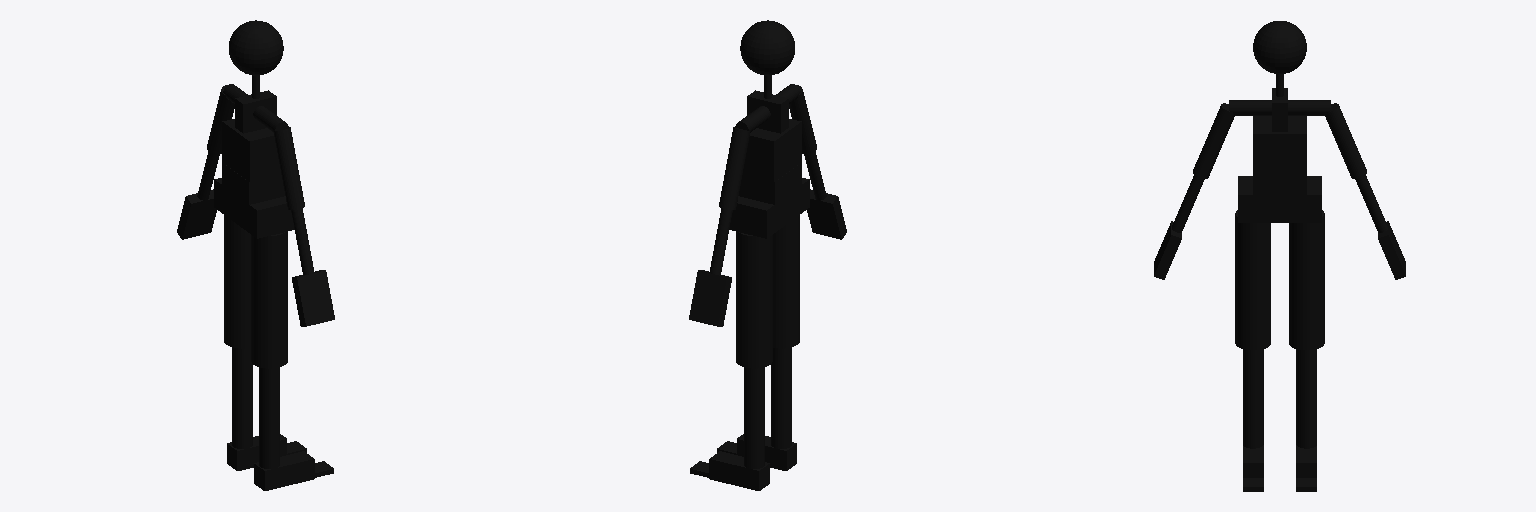
--- What the picture shows (computed from the rendered views, not written in the file) ---
Views: 3 orthographic renders of the robot side by side, from view 1: azimuth 30°, elevation 25°; view 2: azimuth 150°, elevation 25°; view 3: azimuth 270°, elevation 25°.
Robot: XSensStyleModel_template — 51 links, 50 joints (48 revolute, 2 fixed); root link Pelvis; default pose: all joints at 0.
Visible links, largest first — view 1: RightUpperLeg, LeftUpperLeg, Pelvis, Head, RightLowerLeg, LeftLowerLeg, RightHand, RightFoot, T12, RightUpperArm, L5, LeftHand (+6 smaller); view 2: LeftUpperLeg, RightUpperLeg, Pelvis, Head, LeftLowerLeg, RightLowerLeg, LeftHand, LeftFoot, T12, LeftUpperArm, L5, RightHand (+6 smaller); view 3: RightUpperLeg, LeftUpperLeg, Pelvis, Head, RightLowerLeg, LeftLowerLeg, T12, RightUpperArm, LeftUpperArm, L5, L3, RightHand (+8 smaller).
Link boxes in pixels (x1,y1,x2,y2): RightUpperLeg: [251, 232, 287, 368]; LeftUpperLeg: [224, 215, 250, 348]; Pelvis: [214, 178, 294, 238]; Head: [229, 20, 283, 75]; RightLowerLeg: [259, 367, 279, 468]; LeftLowerLeg: [232, 347, 252, 448]; RightHand: [292, 270, 334, 326]; RightFoot: [254, 451, 314, 490]; T12: [222, 119, 277, 161]; RightUpperArm: [273, 127, 304, 209]; L5: [222, 163, 284, 204]; LeftHand: [177, 189, 216, 239]; LeftUpperLeg: [736, 232, 772, 368]; RightUpperLeg: [773, 215, 799, 348]; Pelvis: [729, 178, 809, 238]; Head: [740, 20, 794, 75]; LeftLowerLeg: [744, 367, 764, 468]; RightLowerLeg: [771, 347, 791, 448]; LeftHand: [689, 270, 731, 326]; LeftFoot: [709, 451, 769, 490]; T12: [746, 119, 801, 161]; LeftUpperArm: [719, 127, 750, 209]; L5: [739, 163, 801, 204]; RightHand: [807, 189, 846, 239]; RightUpperLeg: [1235, 210, 1270, 350]; LeftUpperLeg: [1289, 210, 1324, 350]; Pelvis: [1238, 176, 1321, 222]; Head: [1253, 21, 1306, 73]; RightLowerLeg: [1243, 349, 1263, 448]; LeftLowerLeg: [1296, 349, 1316, 448]; T12: [1253, 116, 1306, 153]; RightUpperArm: [1193, 103, 1234, 178]; LeftUpperArm: [1325, 103, 1366, 178]; L5: [1253, 173, 1306, 194]; L3: [1253, 154, 1306, 172]; RightHand: [1154, 221, 1181, 279].
Bounding box of the posed robot: 0.346 × 0.9321 × 1.8 m (x, y, z).
Geometry: primitives only (box / cylinder / sphere), no mesh files.

URDF robot description (XSensStyleModel_template):
<!--URDF MODEL 48 DoFs-->

<robot name="XSensStyleModel_template">

<material name="color">
    <color rgba="0.1 0.1 0.1 1"/>
</material>

<!--To open this model with Gazebo replace the null masses, inertias and dimensions of the 'fake links f1 and f2'-->
    <!--LINKS-->
	<!--Link base (1)-->
	<link name="Pelvis">
        <inertial>
            <mass value="5.696"/>
			<!--COM origin wrt pHipOrigin-->
            <origin xyz="0           0    0.059167" rpy="0 0 0" />
            <inertia ixx="0.050919" iyy="0.019195" izz="0.058056" ixy="0" ixz="0" iyz="0"/>
        </inertial>

        <visual>
			<!--box origin wrt pHipOrigin-->
            <origin xyz="0           0    0.059167" rpy="0 0 0" />
            <geometry>
                <box size="0.16655     0.30753      0.1127"/>
            </geometry>
            <material name="color"/>
        </visual>

        <collision>
			<!--box origin wrt pHipOrigin-->
            <origin xyz="0           0    0.059167" rpy="0 0 0" />
            <geometry>
                <box size="0.16655     0.30753      0.1127"/>
            </geometry>
        </collision>

    </link>
    <!--Chain from (2) to (7)-->
	<link name="L5_f1">
        <inertial>
            <mass value="0"/>
            <origin xyz="0 0 0" rpy="0 0 0" />
            <inertia ixx="0" iyy="0" izz="0" ixy="0" ixz="0" iyz="0"/>
        </inertial>
    </link>
	<link name="L5">
        <inertial>
            <mass value="7.2624"/>
			<!--COM origin wrt jL5S1-->
            <origin xyz="0           0    0.044881" rpy="0 0 0" />
            <inertia ixx="0.02831" iyy="0.021663" izz="0.040221" ixy="0" ixz="0" iyz="0"/>
        </inertial>

        <visual>
			<!--box origin origin wrt jL5S1-->
            <origin xyz="0           0    0.044881" rpy="0 0 0" />
            <geometry>
                <box size="0.16655     0.19678    0.089762"/>
            </geometry>
            <material name="color"/>
        </visual>

        <collision>
			<!--box origin origin wrt jL5S1-->
            <origin xyz="0           0    0.044881" rpy="0 0 0" />
            <geometry>
                <box size="0.16655     0.19678    0.089762"/>
            </geometry>
        </collision>
    </link>
	<link name="L3_f1">
        <inertial>
            <mass value="0"/>
            <origin xyz="0 0 0" rpy="0 0 0" />
            <inertia ixx="0" iyy="0" izz="0" ixy="0" ixz="0" iyz="0"/>
        </inertial>
    </link>
	<link name="L3">
        <inertial>
            <mass value="7.2624"/>
			<!--COM origin wrt jL4L3-->
            <origin xyz="0           0    0.040536" rpy="0 0 0" />
            <inertia ixx="0.027412" iyy="0.020764" izz="0.040221" ixy="0" ixz="0" iyz="0"/>
        </inertial>

        <visual>
			<!--box origin origin wrt jL4L3-->
            <origin xyz="0           0    0.040536" rpy="0 0 0" />
            <geometry>
                <box size="0.16655     0.19678    0.081071"/>
            </geometry>
            <material name="color"/>
        </visual>

        <collision>
			<!--box origin origin wrt jL4L3-->
            <origin xyz="0           0    0.040536" rpy="0 0 0" />
            <geometry>
                <box size="0.16655     0.19678    0.081071"/>
            </geometry>
        </collision>
    </link>
	<link name="T12_f1">
        <inertial>
            <mass value="0"/>
            <origin xyz="0 0 0" rpy="0 0 0" />
            <inertia ixx="0" iyy="0" izz="0" ixy="0" ixz="0" iyz="0"/>
        </inertial>
    </link>
	<link name="T12">
        <inertial>
            <mass value="7.2624"/>
			<!--COM origin wrt jL1T12-->
            <origin xyz="0           0    0.040536" rpy="0 0 0" />
            <inertia ixx="0.027412" iyy="0.020764" izz="0.040221" ixy="0" ixz="0" iyz="0"/>
        </inertial>

        <visual>
			<!--box origin origin wrt jL1T12-->
            <origin xyz="0           0    0.040536" rpy="0 0 0" />
            <geometry>
                <box size="0.16655     0.19678    0.081071"/>
            </geometry>
            <material name="color"/>
        </visual>

        <collision>
			<!--box origin origin wrt jL1T12-->
            <origin xyz="0           0    0.040536" rpy="0 0 0" />
            <geometry>
                <box size="0.16655     0.19678    0.081071"/>
            </geometry>
        </collision>
    </link>
	<link name="T8_f1">
        <inertial>
            <mass value="0"/>
            <origin xyz="0 0 0" rpy="0 0 0" />
            <inertia ixx="0" iyy="0" izz="0" ixy="0" ixz="0" iyz="0"/>
        </inertial>
    </link>
	<link name="T8_f2">
        <inertial>
            <mass value="0"/>
            <origin xyz="0 0 0" rpy="0 0 0" />
            <inertia ixx="0" iyy="0" izz="0" ixy="0" ixz="0" iyz="0"/>
        </inertial>
    </link>
	<link name="T8">
        <inertial>
            <mass value="2.848"/>
			<!--COM origin wrt jT9T8-->
            <origin xyz="0           0    0.058058" rpy="0 0 0" />
            <inertia ixx="0.0040381" iyy="0.0077541" izz="0.0053923" ixy="0" ixz="0" iyz="0"/>
        </inertial>

        <visual>
			<!--box origin wrt jT9T8-->
            <origin xyz="0           0    0.058058" rpy="0 0 0" />
            <geometry>
                <box size="0.13852    0.059426     0.11612"/>
            </geometry>
            <material name="color"/>
        </visual>

        <collision>
			<!--box origin wrt jT9T8-->
            <origin xyz="0           0    0.058058" rpy="0 0 0" />
            <geometry>
                <box size="0.13852    0.059426     0.11612"/>
            </geometry>
        </collision>

    </link>
	<link name="Neck_f1">
        <inertial>
            <mass value="0"/>
            <origin xyz="0 0 0" rpy="0 0 0" />
            <inertia ixx="0" iyy="0" izz="0" ixy="0" ixz="0" iyz="0"/>
        </inertial>
    </link>
	<link name="Neck_f2">
        <inertial>
            <mass value="0"/>
            <origin xyz="0 0 0" rpy="0 0 0" />
            <inertia ixx="0" iyy="0" izz="0" ixy="0" ixz="0" iyz="0"/>
        </inertial>
    </link>
	<link name="Neck">
        <inertial>
            <mass value="0.8544"/>
			<!--COM origin wrt jT1C7-->
            <origin xyz="0           0    0.048176" rpy="0 0 0" />
            <inertia ixx="0.00086442" iyy="0.00086442" izz="0.00040681" ixy="0" ixz="0" iyz="0"/>
        </inertial>

        <visual>
			<!--box origin wrt jT1C7-->
            <origin xyz="0           0    0.048176" rpy="0 0 0" />
            <geometry>
		<cylinder length="0.096353" radius="0.01543"/>
            </geometry>
            <material name="color"/>
        </visual>

        <collision>
			<!--box origin wrt jT1C7-->
            <origin xyz="0           0    0.048176" rpy="0 0 0" />
            <geometry>
                <cylinder length="0.096353" radius="0.01543"/>
            </geometry>
        </collision>
    </link>
	<link name="Head_f1">
        <inertial>
            <mass value="0"/>
            <origin xyz="0 0 0" rpy="0 0 0" />
            <inertia ixx="0" iyy="0" izz="0" ixy="0" ixz="0" iyz="0"/>
        </inertial>
    </link>
	<link name="Head">
        <inertial>
            <mass value="2.5632"/>
			<!--COM origin wrt jC1Head-->
            <origin xyz="0           0    0.099452" rpy="0 0 0" />
            <inertia ixx="0.010141" iyy="0.010141" izz="0.010141" ixy="0" ixz="0" iyz="0"/>
        </inertial>

        <visual>
			<!--boc origin wrt jC1Head-->
            <origin xyz="0           0    0.099452" rpy="0 0 0" />
            <geometry>
                <sphere radius="0.099452"/>
            </geometry>
            <material name="color"/>
        </visual>

        <collision>
			<!--box origin wrt jC1Head-->
            <origin xyz="0           0    0.099452" rpy="0 0 0" />
            <geometry>
                <sphere radius="0.099452"/>
            </geometry>
        </collision>

    </link>
	<!--Chain from (8) to (11)-->
	<link name="RightShoulder">
        <inertial>
            <mass value="2.2072"/>
			<!--COM origin wrt jRightC7Shoulder-->
            <origin xyz="0   -0.078854           0" rpy="0 0 0" />
            <inertia ixx="0.0050082" iyy="0.00086686" izz="0.0050082" ixy="0" ixz="0" iyz="0"/>
        </inertial>

        <visual>
			<!--box origin wrt jRightC7Shoulder. RPY rotated of pi/2.-->
            <origin xyz="0   -0.078854           0" rpy="1.5708 0 0" />
            <geometry>
                <cylinder length="0.15771" radius="0.028026"/>
            </geometry>
            <material name="color"/>
        </visual>

        <collision>
			<!--box origin wrt jRightC7Shoulder. RPY rotated of pi/2.-->
            <origin xyz="0   -0.078854           0" rpy="1.5708 0 0" />
            <geometry>
                <cylinder length="0.15771" radius="0.028026"/>
            </geometry>
        </collision>

    </link>
	<link name="RightUpperArm_f1">
        <inertial>
            <mass value="0"/>
            <origin xyz="0 0 0" rpy="0 0 0" />
            <inertia ixx="0" iyy="0" izz="0" ixy="0" ixz="0" iyz="0"/>
        </inertial>
    </link>
	<link name="RightUpperArm_f2">
        <inertial>
            <mass value="0"/>
            <origin xyz="0 0 0" rpy="0 0 0" />
            <inertia ixx="0" iyy="0" izz="0" ixy="0" ixz="0" iyz="0"/>
        </inertial>
    </link>
    <link name="RightUpperArm">
        <inertial>
            <mass value="2.136"/>
			<!--COM origin wrt jRightShoulder-->
            <origin xyz="0    -0.14573           0" rpy="0 0 0" />
            <inertia ixx="0.015663" iyy="0.0010831" izz="0.015663" ixy="0" ixz="0" iyz="0"/>
        </inertial>

        <visual>
			<!--box origin wrt jRightShoulder. RPY rotated of pi/2.-->
            <origin xyz="0    -0.14573           0" rpy="1.5708 0 0" />
            <geometry>
                <cylinder length="0.29147" radius="0.031846"/>
            </geometry>
            <material name="color"/>
        </visual>

        <collision>
			<!--box origin wrt jRightShoulder. RPY rotated of pi/2.-->
            <origin xyz="0    -0.14573           0" rpy="1.5708 0 0" />
            <geometry>
                <cylinder length="0.29147" radius="0.031846"/>
            </geometry>
        </collision>

    </link>
	<link name="RightForeArm_f1">
        <inertial>
            <mass value="0"/>
            <origin xyz="0 0 0" rpy="0 0 0" />
            <inertia ixx="0" iyy="0" izz="0" ixy="0" ixz="0" iyz="0"/>
        </inertial>
    </link>
	<link name="RightForeArm">
        <inertial>
            <mass value="1.424"/>
			<!--COM origin wrt jRightElbow-->
            <origin xyz="0    -0.12047           0" rpy="0 0 0" />
            <inertia ixx="0.0070493" iyy="0.00032093" izz="0.0070493" ixy="0" ixz="0" iyz="0"/>
        </inertial>

        <visual>
			<!--box origin wrt jRightElbow. RPY rotated of pi/2.-->
            <origin xyz="0    -0.12047           0" rpy="1.5708 0 0" />
            <geometry>
                <cylinder length="0.24094" radius="0.021231"/>
            </geometry>
            <material name="color"/>
        </visual>

        <collision>
			<!--box origin wrt jRightElbow. RPY rotated of pi/2.-->
            <origin xyz="0    -0.12047           0" rpy="1.5708 0 0" />
            <geometry>
                <cylinder length="0.24094" radius="0.021231"/>
            </geometry>
        </collision>

    </link>
	<link name="RightHand_f1">
        <inertial>
            <mass value="0"/>
            <origin xyz="0 0 0" rpy="0 0 0" />
            <inertia ixx="0" iyy="0" izz="0" ixy="0" ixz="0" iyz="0"/>
        </inertial>
    </link>
	<link name="RightHand">
        <inertial>
            <mass value="0.4272"/>
			<!--COM origin wrt jRightWrist-->
            <origin xyz="0   -0.090968           0" rpy="0 0 0" />
            <inertia ixx="0.0012426" iyy="0.00058792" izz="0.0017021" ixy="0" ixz="0" iyz="0"/>
        </inertial>

        <visual>
			<!--box origin wrt jRightWrist-->
            <origin xyz="0   -0.090968           0" rpy="0 0 0" />
            <geometry>
                <box size="0.12129     0.18194    0.042461"/>
            </geometry>
            <material name="color"/>
        </visual>

        <collision>
			<!--box origin wrt jRightWrist-->
            <origin xyz="0   -0.090968           0" rpy="0 0 0" />
            <geometry>
                <box size="0.12129     0.18194    0.042461"/>
            </geometry>
        </collision>

    </link>
    <link name="RightHandCOM">
        <inertial>
            <mass value="0.00001"/>
            <origin xyz="0 0 0" rpy="0 0 0" />
            <inertia ixx="0" iyy="0" izz="0" ixy="0" ixz="0" iyz="0"/>
        </inertial>
        <visual>
            <!--box origin wrt jRightWrist-->
            <origin xyz="0   0           0" rpy="0 0 0" />
            <geometry>
                <box size="0     0    0"/>
            </geometry>
            <material name="color"/>
        </visual>
    </link>
	<!--Chain from (12) to (15)-->
	<link name="LeftShoulder">
        <inertial>
            <mass value="2.2072"/>
			<!--COM origin wrt jLeftC7Shoulder-->
            <origin xyz="0    0.078854           0" rpy="0 0 0" />
            <inertia ixx="0.0050082" iyy="0.00086686" izz="0.0050082" ixy="0" ixz="0" iyz="0"/>
        </inertial>

        <visual>
			<!--box origin wrt jLeftC7Shoulder. RPY rotated of pi/2.-->
            <origin xyz="0    0.078854           0" rpy="1.5708 0 0" />
            <geometry>
                <cylinder length="0.15771" radius="0.028026"/>
            </geometry>
            <material name="color"/>
        </visual>

        <collision>
			<!--box origin wrt jLeftC7Shoulder. RPY rotated of pi/2.-->
            <origin xyz="0    0.078854           0" rpy="1.5708 0 0" />
            <geometry>
                <cylinder length="0.15771" radius="0.028026"/>
            </geometry>
        </collision>

    </link>
	<link name="LeftUpperArm_f1">
        <inertial>
            <mass value="0"/>
            <origin xyz="0 0 0" rpy="0 0 0" />
            <inertia ixx="0" iyy="0" izz="0" ixy="0" ixz="0" iyz="0"/>
        </inertial>
    </link>
	<link name="LeftUpperArm_f2">
        <inertial>
            <mass value="0"/>
            <origin xyz="0 0 0" rpy="0 0 0" />
            <inertia ixx="0" iyy="0" izz="0" ixy="0" ixz="0" iyz="0"/>
        </inertial>
    </link>
	<link name="LeftUpperArm">
        <inertial>
            <mass value="2.136"/>
			<!--COM origin wrt jLeftShoulder-->
            <origin xyz="0     0.14573           0" rpy="0 0 0" />
            <inertia ixx="0.015663" iyy="0.0010831" izz="0.015663" ixy="0" ixz="0" iyz="0"/>
        </inertial>

        <visual>
			<!--box origin wrt jLeftShoulder. RPY rotated of pi/2.-->
            <origin xyz="0     0.14573           0" rpy="1.5708 0 0" />
            <geometry>
                <cylinder length="0.29147" radius="0.031846"/>
            </geometry>
            <material name="color"/>
        </visual>

        <collision>
			<!--box origin wrt jLeftShoulder. RPY rotated of pi/2.-->
            <origin xyz="0     0.14573           0" rpy="1.5708 0 0" />
            <geometry>
                <cylinder length="0.29147" radius="0.031846"/>
            </geometry>
        </collision>

    </link>
	<link name="LeftForeArm_f1">
        <inertial>
            <mass value="0"/>
            <origin xyz="0 0 0" rpy="0 0 0" />
            <inertia ixx="0" iyy="0" izz="0" ixy="0" ixz="0" iyz="0"/>
        </inertial>
    </link>
	<link name="LeftForeArm">
        <inertial>
            <mass value="1.424"/>
			<!--COM origin wrt jLeftElbow-->
            <origin xyz="0     0.12047           0" rpy="0 0 0" />
            <inertia ixx="0.0070493" iyy="0.00032093" izz="0.0070493" ixy="0" ixz="0" iyz="0"/>
        </inertial>

        <visual>
			<!--box origin wrt jLeftElbow. RPY rotated of pi/2.-->
            <origin xyz="0     0.12047           0" rpy="1.5708 0 0" />
            <geometry>
                <cylinder length="0.24094" radius="0.021231"/>
            </geometry>
            <material name="color"/>
        </visual>

        <collision>
			<!--box origin wrt jLeftElbow. RPY rotated of pi/2.-->
            <origin xyz="0     0.12047           0" rpy="1.5708 0 0" />
            <geometry>
                <cylinder length="0.24094" radius="0.021231"/>
            </geometry>
        </collision>

    </link>
	<link name="LeftHand_f1">
        <inertial>
            <mass value="0"/>
            <origin xyz="0 0 0" rpy="0 0 0" />
            <inertia ixx="0" iyy="0" izz="0" ixy="0" ixz="0" iyz="0"/>
        </inertial>
    </link>
	<link name="LeftHand">
        <inertial>
            <mass value="0.4272"/>
			<!--COM origin wrt jLeftWrist-->
            <origin xyz="0    0.090968           0" rpy="0 0 0" />
            <inertia ixx="0.0012426" iyy="0.00058792" izz="0.0017021" ixy="0" ixz="0" iyz="0"/>
        </inertial>

        <visual>
			<!--COM origin wrt jLeftWrist-->
            <origin xyz="0    0.090968           0" rpy="0 0 0" />
            <geometry>
                <box size="0.12129     0.18194    0.042461"/>
            </geometry>
            <material name="color"/>
        </visual>

        <collision>
			<!--COM origin wrt jLeftWrist-->
            <origin xyz="0    0.090968           0" rpy="0 0 0" />
            <geometry>
                <box size="0.12129     0.18194    0.042461"/>
            </geometry>
        </collision>

    </link>
    <link name="LeftHandCOM">
        <inertial>
            <mass value="0.00001"/>
            <origin xyz="0 0 0" rpy="0 0 0" />
            <inertia ixx="0" iyy="0" izz="0" ixy="0" ixz="0" iyz="0"/>
        </inertial>
        <visual>
            <!--COM origin wrt jLeftWrist-->
            <origin xyz="0    0           0" rpy="0 0 0" />
            <geometry>
                <box size="0     0    0"/>
            </geometry>
            <material name="color"/>
        </visual>
    </link>
	<!--Chain from (16) to (19)-->
	<link name="RightUpperLeg_f1">
        <inertial>
            <mass value="0"/>
            <origin xyz="0 0 0" rpy="0 0 0" />
            <inertia ixx="0" iyy="0" izz="0" ixy="0" ixz="0" iyz="0"/>
        </inertial>
    </link>
	<link name="RightUpperLeg_f2">
        <inertial>
            <mass value="0"/>
            <origin xyz="0 0 0" rpy="0 0 0" />
            <inertia ixx="0" iyy="0" izz="0" ixy="0" ixz="0" iyz="0"/>
        </inertial>
    </link>
    <link name="RightUpperLeg">
        <inertial>
            <mass value="8.9"/>
			<!--COM origin wrt jRightHip-->
            <origin xyz="0           0    -0.26304" rpy="0 0 0" />
            <inertia ixx="0.21503" iyy="0.21503" izz="0.019525" ixy="0" ixz="0" iyz="0"/>
        </inertial>

        <visual>
			<!--box origin wrt jRightHip-->
            <origin xyz="0           0    -0.26304" rpy="0 0 0" />
            <geometry>
                <cylinder length="0.52609" radius="0.066238"/>
            </geometry>
            <material name="color"/>
        </visual>

        <collision>
			<!--box origin wrt jRightHip-->
            <origin xyz="0           0    -0.26304" rpy="0 0 0" />
            <geometry>
                <cylinder length="0.52609" radius="0.066238"/>
            </geometry>
        </collision>

    </link>
	<link name="RightLowerLeg_f1">
        <inertial>
            <mass value="0"/>
            <origin xyz="0 0 0" rpy="0 0 0" />
            <inertia ixx="0" iyy="0" izz="0" ixy="0" ixz="0" iyz="0"/>
        </inertial>
    </link>
    <link name="RightLowerLeg">
        <inertial>
            <mass value="2.5988"/>
			<!--COM origin wrt jRightKnee-->
            <origin xyz="0           0    -0.20614" rpy="0 0 0" />
            <inertia ixx="0.037755" iyy="0.037755" izz="0.0018892" ixy="0" ixz="0" iyz="0"/>
        </inertial>

        <visual>
			<!--box origin wrt jRightKnee-->
            <origin xyz="0           0    -0.20614" rpy="0 0 0" />
            <geometry>
                <cylinder length="0.41228" radius="0.03813"/>
            </geometry>
            <material name="color"/>
        </visual>

        <collision>
			<!--box origin wrt jRightKnee-->
            <origin xyz="0           0    -0.20614" rpy="0 0 0" />
            <geometry>
                <cylinder length="0.41228" radius="0.03813"/>
            </geometry>
        </collision>

    </link>
	<link name="RightFoot_f1">
        <inertial>
            <mass value="0"/>
            <origin xyz="0 0 0" rpy="0 0 0" />
            <inertia ixx="0" iyy="0" izz="0" ixy="0" ixz="0" iyz="0"/>
        </inertial>
    </link>
	<link name="RightFoot_f2">
        <inertial>
            <mass value="0"/>
            <origin xyz="0 0 0" rpy="0 0 0" />
            <inertia ixx="0" iyy="0" izz="0" ixy="0" ixz="0" iyz="0"/>
        </inertial>
    </link>
    <link name="RightFoot">
        <inertial>
            <mass value="0.9256"/>
			<!--COM origin wrt jRightAnkle-->
            <origin xyz="0.061581           0   -0.040628" rpy="0 0 0" />
            <inertia ixx="0.00095786" iyy="0.0038434" izz="0.0037827" ixy="0" ixz="0" iyz="0"/>
        </inertial>

        <visual>
			<!--box origin wrt jRightAnkle-->
	    	<origin xyz="0.061581           0   -0.040628" rpy="0 0 0" />
            <geometry>
                <box size="0.20791     0.07626    0.081257"/>
            </geometry>
            <material name="color"/>
        </visual>

        <collision>
			<!--box origin wrt jRightAnkle-->
		    <origin xyz="0.061581           0   -0.040628" rpy="0 0 0" />
	            <geometry>
	                <box size="0.20791     0.07626    0.081257"/>
	            </geometry>
        </collision>

    </link>
    <link name="RightToe">
        <inertial>
            <mass value="0.1068"/>
			<!--COM origin wrt jRightBallFoot-->
            <origin xyz="0.041044           0           0" rpy="0 0 0" />
            <inertia ixx="5.4675e-05" iyy="6.289e-05" izz="0.00011173" ixy="0" ixz="0" iyz="0"/>
        </inertial>

        <visual>
			<!--box origin wrt jRightBallFoot-->
            <origin xyz="0.041044           0           0" rpy="0 0 0" />
            <geometry>
                <box size="0.082089     0.07626    0.018102"/>
            </geometry>
            <material name="color"/>
        </visual>

        <collision>
			<!--box origin wrt jRightBallFoot-->
            <origin xyz="0.041044           0           0" rpy="0 0 0" />
            <geometry>
                <box size="0.082089     0.07626    0.018102"/>
            </geometry>
        </collision>
    </link>
	<!--Chain from (20) to (23)-->
	<link name="LeftUpperLeg_f1">
        <inertial>
            <mass value="0"/>
            <origin xyz="0 0 0" rpy="0 0 0" />
            <inertia ixx="0" iyy="0" izz="0" ixy="0" ixz="0" iyz="0"/>
        </inertial>
    </link>
	<link name="LeftUpperLeg_f2">
        <inertial>
            <mass value="0"/>
            <origin xyz="0 0 0" rpy="0 0 0" />
            <inertia ixx="0" iyy="0" izz="0" ixy="0" ixz="0" iyz="0"/>
        </inertial>
    </link>
    <link name="LeftUpperLeg">
        <inertial>
            <mass value="8.9"/>
			<!--COM origin wrt jLeftHip-->
            <origin xyz="0           0    -0.26304" rpy="0 0 0" />
            <inertia ixx="0.21503" iyy="0.21503" izz="0.019525" ixy="0" ixz="0" iyz="0"/>
        </inertial>

        <visual>
			<!--box origin wrt jLeftHip-->
            <origin xyz="0           0    -0.26304" rpy="0 0 0" />
            <geometry>
                <cylinder length="0.52609" radius="0.066238"/>
            </geometry>
            <material name="color"/>
        </visual>

        <collision>
			<!--box origin wrt jLeftHip-->
            <origin xyz="0           0    -0.26304" rpy="0 0 0" />
            <geometry>
                <cylinder length="0.52609" radius="0.066238"/>
            </geometry>
        </collision>

    </link>
	<link name="LeftLowerLeg_f1">
        <inertial>
            <mass value="0"/>
            <origin xyz="0 0 0" rpy="0 0 0" />
            <inertia ixx="0" iyy="0" izz="0" ixy="0" ixz="0" iyz="0"/>
        </inertial>
    </link>
	<link name="LeftLowerLeg">
        <inertial>
            <mass value="2.5988"/>
			<!--COM origin wrt jLeftKnee-->
            <origin xyz="0           0    -0.20614" rpy="0 0 0" />
            <inertia ixx="0.037755" iyy="0.037755" izz="0.0018892" ixy="0" ixz="0" iyz="0"/>
        </inertial>

        <visual>
			<!--box origin wrt jLeftKnee-->
            <origin xyz="0           0    -0.20614" rpy="0 0 0" />
            <geometry>
		<cylinder length="0.41228" radius="0.03813"/>
            </geometry>
            <material name="color"/>
        </visual>

        <collision>
			<!--box origin wrt jLeftKnee-->
            <origin xyz="0           0    -0.20614" rpy="0 0 0" />
            <geometry>
		<cylinder length="0.41228" radius="0.03813"/>
            </geometry>
        </collision>

    </link>
	<link name="LeftFoot_f1">
        <inertial>
            <mass value="0"/>
            <origin xyz="0 0 0" rpy="0 0 0" />
            <inertia ixx="0" iyy="0" izz="0" ixy="0" ixz="0" iyz="0"/>
        </inertial>
    </link>
	<link name="LeftFoot_f2">
        <inertial>
            <mass value="0"/>
            <origin xyz="0 0 0" rpy="0 0 0" />
            <inertia ixx="0" iyy="0" izz="0" ixy="0" ixz="0" iyz="0"/>
        </inertial>
    </link>
    <link name="LeftFoot">
        <inertial>
            <mass value="0.9256"/>
			<!--COM origin wrt jLeftAnkle-->
            <origin xyz="0.061581           0   -0.040628" rpy="0 0 0" />
            <inertia ixx="0.00095786" iyy="0.0038434" izz="0.0037827" ixy="0" ixz="0" iyz="0"/>
        </inertial>

        <visual>
			<!--box origin wrt jLeftAnkle-->
	   	 	<origin xyz="0.061581           0   -0.040628" rpy="0 0 0" />
            <geometry>
                <box size="0.20791     0.07626    0.081257"/>
            </geometry>
            <material name="color"/>
        </visual>

        <collision>
			<!--box origin wrt jLeftAnkle-->
		    <origin xyz="0.061581           0   -0.040628" rpy="0 0 0" />
	            <geometry>
	                <box size="0.20791     0.07626    0.081257"/>
	            </geometry>
        </collision>

    </link>
	<link name="LeftToe">
        <inertial>
            <mass value="0.1068"/>
			<!--COM origin wrt jLeftBallFoot-->
            <origin xyz="0.041044           0           0" rpy="0 0 0" />
            <inertia ixx="5.4675e-05" iyy="6.289e-05" izz="0.00011173" ixy="0" ixz="0" iyz="0"/>
        </inertial>

        <visual>
			<!--box origin wrt jLeftBallFoot-->
            <origin xyz="0.041044           0           0" rpy="0 0 0" />
            <geometry>
                <box size="0.082089     0.07626    0.018102"/>
            </geometry>
            <material name="color"/>
        </visual>

        <collision>
			<!--box origin wrt jLeftBallFoot-->
            <origin xyz="0.041044           0           0" rpy="0 0 0" />
            <geometry>
                <box size="0.082089     0.07626    0.018102"/>
            </geometry>
        </collision>
    </link>


	<!--JOINTS-->
	<!--Chain from (2) to (7)-->
	<joint name="jL5S1_rotx" type="revolute">
        <origin xyz="-0.000575           0     0.11552" rpy="0 0 0"/>
        <parent link="Pelvis"/>
        <child link="L5_f1"/>
        <dynamics damping="0.1" friction="0.0"/>
        <limit effort="30" velocity="1.0" lower="-0.610865" upper="0.610865" />
        <axis xyz="1 0 0" />
    </joint>
	<joint name="jL5S1_roty" type="revolute">
        <origin xyz="0 0 0" rpy="0 0 0"/>
        <parent link="L5_f1"/>
        <child link="L5"/>
        <dynamics damping="0.1" friction="0.0"/>
        <limit effort="30" velocity="1.0" lower="-0.523599" upper="1.309" />
        <axis xyz="0 1 0" />
    </joint>
	<joint name="jL4L3_rotx" type="revolute">
        <origin xyz="0.001044           0    0.089762" rpy="0 0 0"/>
        <parent link="L5"/>
        <child link="L3_f1"/>
        <dynamics damping="0.1" friction="0.0"/>
        <limit effort="30" velocity="1.0" lower="-0.610865" upper="0.610865" />
        <axis xyz="1 0 0" />
    </joint>
	<joint name="jL4L3_roty" type="revolute">
        <origin xyz="0 0 0" rpy="0 0 0"/>
        <parent link="L3_f1"/>
        <child link="L3"/>
        <dynamics damping="0.1" friction="0.0"/>
        <limit effort="30" velocity="1.0" lower="-0.523599" upper="1.309" />
        <axis xyz="0 1 0" />
    </joint>
	<joint name="jL1T12_rotx" type="revolute">
        <origin xyz="0           0    0.081071" rpy="0 0 0"/>
        <parent link="L3"/>
        <child link="T12_f1"/>
        <dynamics damping="0.1" friction="0.0"/>
        <limit effort="30" velocity="1.0" lower="-0.610865" upper="0.610865" />
        <axis xyz="1 0 0" />
    </joint>
	<joint name="jL1T12_roty" type="revolute">
        <origin xyz="0 0 0" rpy="0 0 0"/>
        <parent link="T12_f1"/>
        <child link="T12"/>
        <dynamics damping="0.1" friction="0.0"/>
        <limit effort="30" velocity="1.0" lower="-0.523599" upper="1.309" />
        <axis xyz="0 1 0" />
    </joint>
	<joint name="jT9T8_rotx" type="revolute">
        <origin xyz="0           0    0.081071" rpy="0 0 0"/>
        <parent link="T12"/>
        <child link="T8_f1"/>
        <dynamics damping="0.1" friction="0.0"/>
        <limit effort="30" velocity="1.0" lower="-0.349066" upper="0.349066" />
        <axis xyz="1 0 0" />
    </joint>
	<joint name="jT9T8_roty" type="revolute">
        <origin xyz="0 0 0" rpy="0 0 0"/>
        <parent link="T8_f1"/>
        <child link="T8_f2"/>
        <dynamics damping="0.1" friction="0.0"/>
        <limit effort="30" velocity="1.0" lower="-0.261799" upper="0.698132" />
        <axis xyz="0 1 0" />
    </joint>
    <joint name="jT9T8_rotz" type="revolute">
        <origin xyz="0 0 0" rpy="0 0 0"/>
        <parent link="T8_f2"/>
        <child link="T8"/>
        <dynamics damping="0.1" friction="0.0"/>
        <limit effort="30" velocity="1.0" lower="-0.610865" upper="0.610865" />
        <axis xyz="0 0 1" />
    </joint>
	<joint name="jT1C7_rotx" type="revolute">
        <origin xyz="0           0     0.11612" rpy="0 0 0"/>
        <parent link="T8"/>
        <child link="Neck_f1"/>
        <dynamics damping="0.1" friction="0.0"/>
        <limit effort="30" velocity="1.0" lower="-0.610865" upper="0.610865" />
        <axis xyz="1 0 0" />
    </joint>
	<joint name="jT1C7_roty" type="revolute">
        <origin xyz="0 0 0" rpy="0 0 0"/>
        <parent link="Neck_f1"/>
        <child link="Neck_f2"/>
        <dynamics damping="0.1" friction="0.0"/>
        <limit effort="30" velocity="1.0" lower="-0.959931" upper="1.5708" />
        <axis xyz="0 1 0" />
    </joint>
    <joint name="jT1C7_rotz" type="revolute">
        <origin xyz="0 0 0" rpy="0 0 0"/>
        <parent link="Neck_f2"/>
        <child link="Neck"/>
        <dynamics damping="0.1" friction="0.0"/>
        <limit effort="30" velocity="1.0" lower="-1.22173" upper="1.22173" />
        <axis xyz="0 0 1" />
    </joint>
	<joint name="jC1Head_rotx" type="revolute">
        <origin xyz="0.000829           0    0.096353" rpy="0 0 0"/>
        <parent link="Neck"/>
        <child link="Head_f1"/>
        <dynamics damping="0.1" friction="0.0"/>
        <limit effort="30" velocity="1.0" lower="-0.610865" upper="0.610865" />
        <axis xyz="1 0 0" />
    </joint>
	<joint name="jC1Head_roty" type="revolute">
        <origin xyz="0 0 0" rpy="0 0 0"/>
        <parent link="Head_f1"/>
        <child link="Head"/>
        <dynamics damping="0.1" friction="0.0"/>
        <limit effort="30" velocity="1.0" lower="-0.436332" upper="0.174533" />
        <axis xyz="0 1 0" />
    </joint>
	<!--Chain from (8) to (11)-->
	<joint name="jRightC7Shoulder_rotx" type="revolute">
        <origin xyz="0   -0.029713    0.065446" rpy="0 0 0"/>
        <parent link="T8"/>
        <child link="RightShoulder"/>
        <dynamics damping="0.1" friction="0.0"/>
        <limit effort="30" velocity="1.0" lower="-0.785398" upper="0.0872665" />
        <axis xyz="1 0 0" />
    </joint>
	<joint name="jRightShoulder_rotx" type="revolute">
        <origin xyz="0    -0.15771           0" rpy="1.2 0 0"/>
        <parent link="RightShoulder"/>
        <child link="RightUpperArm_f1"/>
        <dynamics damping="0.1" friction="0.0"/>
        <limit effort="30" velocity="1.0" lower="-2.35619" upper="1.5708" />
        <axis xyz="1 0 0" />
    </joint>
	<joint name="jRightShoulder_roty" type="revolute">
        <origin xyz="0 0 0" rpy="0 0 0"/>
        <parent link="RightUpperArm_f1"/>
        <child link="RightUpperArm_f2"/>
        <dynamics damping="0.1" friction="0.0"/>
        <limit effort="30" velocity="1.0" lower="-1.5708" upper="1.5708" />
        <axis xyz="0 1 0" />
    </joint>
    <joint name="jRightShoulder_rotz" type="revolute">
        <origin xyz="0 0 0" rpy="0 0 0"/>
        <parent link="RightUpperArm_f2"/>
        <child link="RightUpperArm"/>
        <dynamics damping="0.1" friction="0.0"/>
        <limit effort="30" velocity="1.0" lower="-0.785398" upper="3.14159" />
        <axis xyz="0 0 1" />
    </joint>
	<joint name="jRightElbow_roty" type="revolute">
        <origin xyz="0    -0.29147           0" rpy="0 0 0"/>
        <parent link="RightUpperArm"/>
        <child link="RightForeArm_f1"/>
        <dynamics damping="0.1" friction="0.0"/>
        <limit effort="30" velocity="1.0" lower="-1.5708" upper="1.48353" />
        <axis xyz="0 1 0" />
    </joint>
	<joint name="jRightElbow_rotz" type="revolute">
        <origin xyz="0 0 0" rpy="0 0 0"/>
        <parent link="RightForeArm_f1"/>
        <child link="RightForeArm"/>
        <dynamics damping="0.1" friction="0.0"/>
        <limit effort="30" velocity="1.0" lower="0" upper="2.53073" />
        <axis xyz="0 0 1" />
    </joint>
	<joint name="jRightWrist_rotx" type="revolute">
        <origin xyz="0.000102    -0.24094           0" rpy="0 0 0"/>
        <parent link="RightForeArm"/>
        <child link="RightHand_f1"/>
        <dynamics damping="0.1" friction="0.0"/>
        <limit effort="30" velocity="1.0" lower="-0.872665" upper="1.0472" />
        <axis xyz="1 0 0" />
    </joint>
	<joint name="jRightWrist_rotz" type="revolute">
        <origin xyz="0 0 0" rpy="0 0 0"/>
        <parent link="RightHand_f1"/>
        <child link="RightHand"/>
        <dynamics damping="0.1" friction="0.0"/>
        <limit effort="30" velocity="1.0" lower="-0.523599" upper="0.349066" />
        <axis xyz="0 0 1" />
    </joint>
    <joint name="jRightHandCOM" type="fixed">
        <origin xyz="0 -0.096206 0" rpy="0 0 0"/>
        <parent link="RightHand"/>
        <child link="RightHandCOM"/>
        <axis xyz="0 0 0" />
    </joint>
	<!--Chain from (12) to (15)-->
	<joint name="jLeftC7Shoulder_rotx" type="revolute">
        <origin xyz="0    0.029713    0.065446" rpy="0 0 0"/>
        <parent link="T8"/>
        <child link="LeftShoulder"/>
        <dynamics damping="0.1" friction="0.0"/>
        <limit effort="30" velocity="1.0" lower="-0.0872665" upper="0.785398" />
        <axis xyz="1 0 0" />
    </joint>
	<joint name="jLeftShoulder_rotx" type="revolute">
        <origin xyz="0     0.15771           0" rpy="-1.2 0 0"/>
        <parent link="LeftShoulder"/>
        <child link="LeftUpperArm_f1"/>
        <dynamics damping="0.1" friction="0.0"/>
        <limit effort="30" velocity="1.0" lower="-1.5708" upper="2.35619" />
        <axis xyz="1 0 0" />
    </joint>
	<joint name="jLeftShoulder_roty" type="revolute">
        <origin xyz="0 0 0" rpy="0 0 0"/>
        <parent link="LeftUpperArm_f1"/>
        <child link="LeftUpperArm_f2"/>
        <dynamics damping="0.1" friction="0.0"/>
        <limit effort="30" velocity="1.0" lower="-1.5708" upper="1.5708" />
        <axis xyz="0 1 0" />
    </joint>
    <joint name="jLeftShoulder_rotz" type="revolute">
        <origin xyz="0 0 0" rpy="0 0 0"/>
        <parent link="LeftUpperArm_f2"/>
        <child link="LeftUpperArm"/>
        <dynamics damping="0.1" friction="0.0"/>
        <limit effort="30" velocity="1.0" lower="-3.14159" upper="0.785398" />
        <axis xyz="0 0 1" />
    </joint>
    <joint name="jLeftElbow_roty" type="revolute">
        <origin xyz="0     0.29147           0" rpy="0 0 0"/>
        <parent link="LeftUpperArm"/>
        <child link="LeftForeArm_f1"/>
        <dynamics damping="0.1" friction="0.0"/>
        <limit effort="30" velocity="1.0" lower="-1.5708" upper="1.48353" />
        <axis xyz="0 1 0" />
    </joint>
    <joint name="jLeftElbow_rotz" type="revolute">
        <origin xyz="0 0 0" rpy="0 0 0"/>
        <parent link="LeftForeArm_f1"/>
        <child link="LeftForeArm"/>
        <dynamics damping="0.1" friction="0.0"/>
        <limit effort="30" velocity="1.0" lower="-2.53073" upper="0" />
        <axis xyz="0 0 1" />
    </joint>
	<joint name="jLeftWrist_rotx" type="revolute">
        <origin xyz="0.000102     0.24094           0" rpy="0 0 0"/>
        <parent link="LeftForeArm"/>
        <child link="LeftHand_f1"/>
        <dynamics damping="0.1" friction="0.0"/>
        <limit effort="30" velocity="1.0" lower="-1.0472" upper="0.872665" />
        <axis xyz="1 0 0" />
    </joint>
	<joint name="jLeftWrist_rotz" type="revolute">
        <origin xyz="0 0 0" rpy="0 0 0"/>
        <parent link="LeftHand_f1"/>
        <child link="LeftHand"/>
        <dynamics damping="0.1" friction="0.0"/>
        <limit effort="30" velocity="1.0" lower="-0.349066" upper="0.523599" />
        <axis xyz="0 0 1" />
    </joint>
    <joint name="jLeftHandCOM" type="fixed">
        <origin xyz="0 0.096206 0" rpy="0 0 0"/>
        <parent link="LeftHand"/>
        <child link="LeftHandCOM"/>
        <axis xyz="0 0 0" />
    </joint>
	<!--Chain from (16) to (19)-->
	<joint name="jRightHip_rotx" type="revolute">
        <origin xyz="0.000287   -0.098388    0.002817" rpy="0 0 0"/>
        <parent link="Pelvis"/>
        <child link="RightUpperLeg_f1"/>
        <dynamics damping="0.1" friction="0.0"/>
        <limit effort="30" velocity="1.0" lower="-0.785398" upper="0.523599" />
        <axis xyz="1 0 0" />
    </joint>
	<joint name="jRightHip_roty" type="revolute">
        <origin xyz="0 0 0" rpy="0 0 0"/>
        <parent link="RightUpperLeg_f1"/>
        <child link="RightUpperLeg_f2"/>
        <dynamics damping="0.1" friction="0.0"/>
        <limit effort="30" velocity="1.0" lower="-2.0944" upper="0.261799" />
        <axis xyz="0 1 0" />
    </joint>
    <joint name="jRightHip_rotz" type="revolute">
        <origin xyz="0 0 0" rpy="0 0 0"/>
        <parent link="RightUpperLeg_f2"/>
        <child link="RightUpperLeg"/>
        <dynamics damping="0.1" friction="0.0"/>
        <limit effort="30" velocity="1.0" lower="-0.785398" upper="0.785398" />
        <axis xyz="0 0 1" />
    </joint>
	<joint name="jRightKnee_roty" type="revolute">
        <origin xyz="3e-05           0    -0.52609" rpy="0 0 0"/>
        <parent link="RightUpperLeg"/>
        <child link="RightLowerLeg_f1"/>
        <dynamics damping="0.1" friction="0.0"/>
        <limit effort="30" velocity="1.0" lower="0" upper="2.35619" />
        <axis xyz="0 1 0" />
    </joint>
	<joint name="jRightKnee_rotz" type="revolute">
        <origin xyz="0 0 0" rpy="0 0 0"/>
        <parent link="RightLowerLeg_f1"/>
        <child link="RightLowerLeg"/>
        <dynamics damping="0.1" friction="0.0"/>
        <limit effort="30" velocity="1.0" lower="-0.698132" upper="0.523599" />
        <axis xyz="0 0 1" />
    </joint>
	<joint name="jRightAnkle_rotx" type="revolute">
        <origin xyz="-0.0001           0    -0.41228" rpy="0 0 0"/>
        <parent link="RightLowerLeg"/>
        <child link="RightFoot_f1"/>
        <dynamics damping="0.1" friction="0.0"/>
        <limit effort="30" velocity="1.0" lower="-0.610865" upper="0.785398" />
        <axis xyz="1 0 0" />
    </joint>
	<joint name="jRightAnkle_roty" type="revolute">
        <origin xyz="0 0 0" rpy="0 0 0"/>
        <parent link="RightFoot_f1"/>
        <child link="RightFoot_f2"/>
        <dynamics damping="0.1" friction="0.0"/>
        <limit effort="30" velocity="1.0" lower="-0.523599" upper="0.872665" />
        <axis xyz="0 1 0" />
    </joint>
    <joint name="jRightAnkle_rotz" type="revolute">
        <origin xyz="0 0 0" rpy="0 0 0"/>
        <parent link="RightFoot_f2"/>
        <child link="RightFoot"/>
        <dynamics damping="0.1" friction="0.0"/>
        <limit effort="30" velocity="1.0" lower="-0.436332" upper="0.872665" />
        <axis xyz="0 0 1" />
    </joint>
	<joint name="jRightBallFoot_roty" type="revolute">
        <origin xyz="0.16553           0   -0.067444" rpy="0 0 0"/>
        <parent link="RightFoot"/>
        <child link="RightToe"/>
        <dynamics damping="0.1" friction="0.0"/>
        <limit effort="30" velocity="1.0" lower="-0.174533" upper="1.5708" />
        <axis xyz="0 1 0" />
    </joint>
	<!--Chain from (20) to (23)-->
	<joint name="jLeftHip_rotx" type="revolute">
        <origin xyz="0.000287    0.098388    0.002817" rpy="0 0 0"/>
        <parent link="Pelvis"/>
        <child link="LeftUpperLeg_f1"/>
        <dynamics damping="0.1" friction="0.0"/>
        <limit effort="30" velocity="1.0" lower="-0.523599" upper="0.785398" />
        <axis xyz="1 0 0" />
    </joint>
	<joint name="jLeftHip_roty" type="revolute">
        <origin xyz="0 0 0" rpy="0 0 0"/>
        <parent link="LeftUpperLeg_f1"/>
        <child link="LeftUpperLeg_f2"/>
        <dynamics damping="0.1" friction="0.0"/>
        <limit effort="30" velocity="1.0" lower="-2.0944" upper="0.261799" />
        <axis xyz="0 1 0" />
    </joint>
    <joint name="jLeftHip_rotz" type="revolute">
        <origin xyz="0 0 0" rpy="0 0 0"/>
        <parent link="LeftUpperLeg_f2"/>
        <child link="LeftUpperLeg"/>
        <dynamics damping="0.1" friction="0.0"/>
        <limit effort="30" velocity="1.0" lower="-0.785398" upper="0.785398" />
        <axis xyz="0 0 1" />
    </joint>
	<joint name="jLeftKnee_roty" type="revolute">
        <origin xyz="3e-05           0    -0.52609" rpy="0 0 0"/>
        <parent link="LeftUpperLeg"/>
        <child link="LeftLowerLeg_f1"/>
        <dynamics damping="0.1" friction="0.0"/>
        <limit effort="30" velocity="1.0" lower="0" upper="2.35619" />
        <axis xyz="0 1 0" />
    </joint>
    <joint name="jLeftKnee_rotz" type="revolute">
        <origin xyz="0 0 0" rpy="0 0 0"/>
        <parent link="LeftLowerLeg_f1"/>
        <child link="LeftLowerLeg"/>
        <dynamics damping="0.1" friction="0.0"/>
        <limit effort="30" velocity="1.0" lower="-0.523599" upper="0.698132" />
        <axis xyz="0 0 1" />
    </joint>
	<joint name="jLeftAnkle_rotx" type="revolute">
        <origin xyz="-0.0001           0    -0.41228" rpy="0 0 0"/>
        <parent link="LeftLowerLeg"/>
        <child link="LeftFoot_f1"/>
        <dynamics damping="0.1" friction="0.0"/>
        <limit effort="30" velocity="1.0" lower="-0.785398" upper="0.610865" />
        <axis xyz="1 0 0" />
    </joint>
	<joint name="jLeftAnkle_roty" type="revolute">
        <origin xyz="0 0 0" rpy="0 0 0"/>
        <parent link="LeftFoot_f1"/>
        <child link="LeftFoot_f2"/>
        <dynamics damping="0.1" friction="0.0"/>
        <limit effort="30" velocity="1.0" lower="-0.523599" upper="0.872665" />
        <axis xyz="0 1 0" />
    </joint>
    <joint name="jLeftAnkle_rotz" type="revolute">
        <origin xyz="0 0 0" rpy="0 0 0"/>
        <parent link="LeftFoot_f2"/>
        <child link="LeftFoot"/>
        <dynamics damping="0.1" friction="0.0"/>
        <limit effort="30" velocity="1.0" lower="-0.872665" upper="0.436332" />
        <axis xyz="0 0 1" />
    </joint>
	<joint name="jLeftBallFoot_roty" type="revolute">
        <origin xyz="0.16553           0   -0.067444" rpy="0 0 0"/>
        <parent link="LeftFoot"/>
        <child link="LeftToe"/>
        <dynamics damping="0.1" friction="0.0"/>
        <limit effort="30" velocity="1.0" lower="-0.174533" upper="1.5708" />
        <axis xyz="0 1 0" />
    </joint>

</robot>
